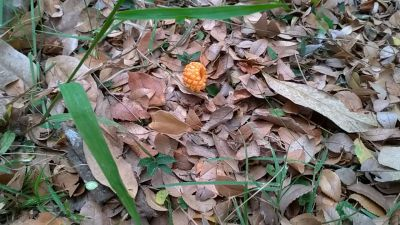eggs: (180, 61, 211, 92)
